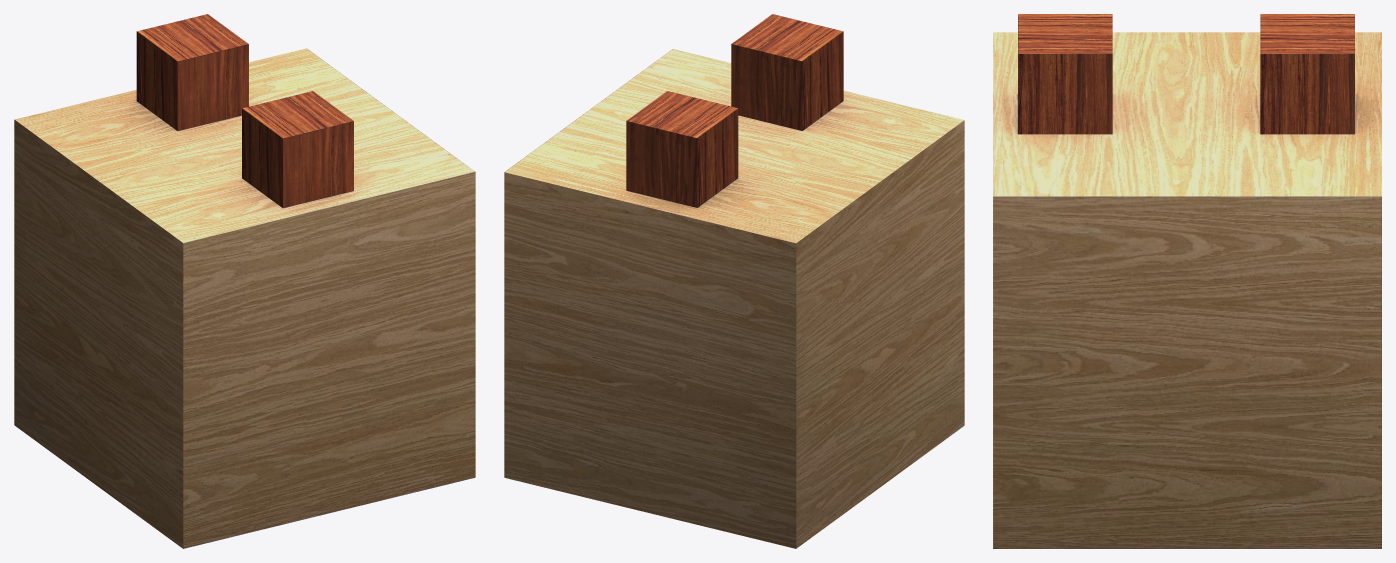
Rendered from testModel2.glb.
3 views of the same model, side by side, from view 1: azimuth 30°, elevation 25°; view 2: azimuth 150°, elevation 25°; view 3: azimuth 270°, elevation 25° (orthographic). The views are drawn at different scales.
Visible parts, largest first — view 1: govde, ayak2; view 2: govde, ayak2; view 3: govde, ayak2.
Boxes of the visible parts, <box> form: govde: <box>14,48,475,548</box>; ayak2: <box>136,14,353,207</box>; govde: <box>504,49,964,548</box>; ayak2: <box>626,14,843,207</box>; govde: <box>993,32,1381,548</box>; ayak2: <box>1018,14,1354,134</box>.
Bounding box in the file's own units: 2 × 2.46 × 2.
2 materials, 2 textured.
